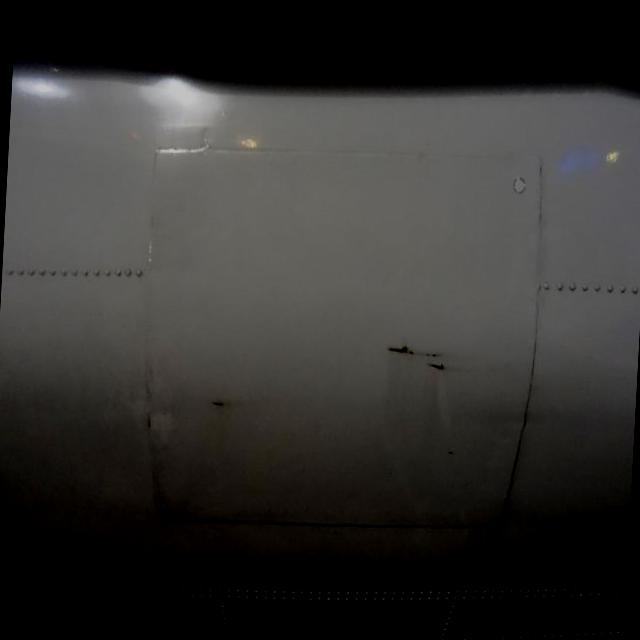dent: (381, 344, 464, 439), (136, 388, 184, 448)
